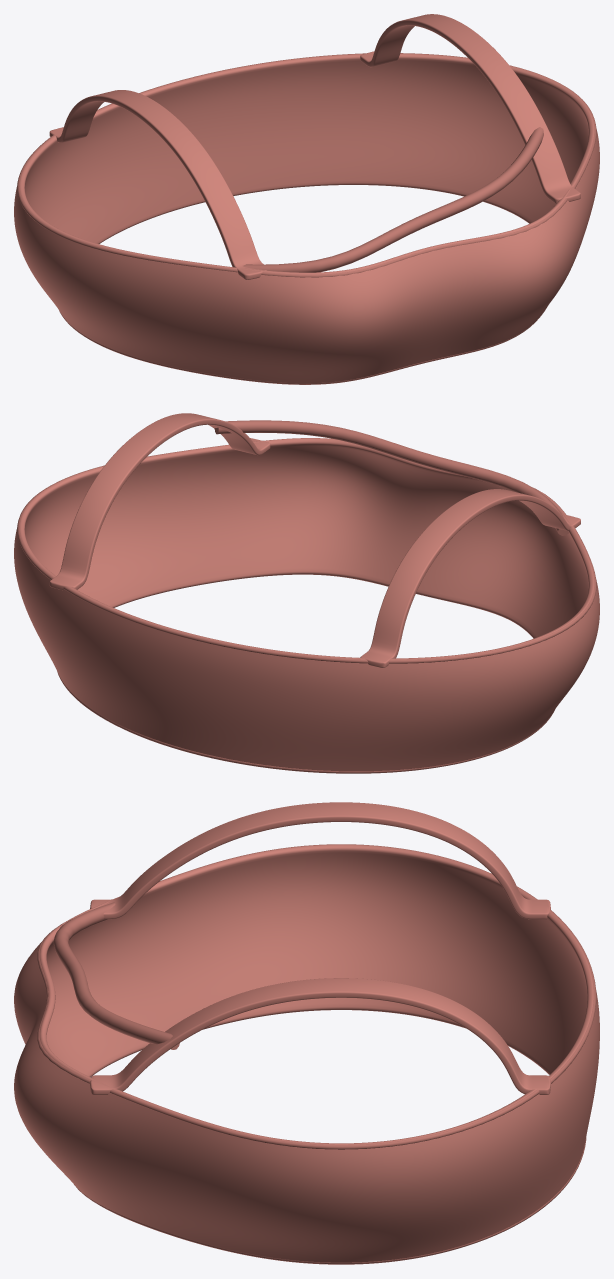
Rendered from Feminine-strappy-top.glb.
3 renders of one model, top to bottom at view 1: azimuth 30°, elevation 25°; view 2: azimuth 150°, elevation 25°; view 3: azimuth 270°, elevation 25°, orthographic. The views are drawn at different scales.
Visible parts, largest first — view 1: Clothing / strappy body, Clothing / strappy seated strap -1, Clothing / strappy seated strap 1, Crop / continuous diagonal strap export, strappy body stitched edge.001 export, strappy body stitched edge export; view 2: Clothing / strappy body, Clothing / strappy seated strap -1, Clothing / strappy seated strap 1, Crop / continuous diagonal strap export, strappy body stitched edge.001 export, strappy body stitched edge export; view 3: Clothing / strappy body, Clothing / strappy seated strap -1, Clothing / strappy seated strap 1, strappy body stitched edge.001 export, Crop / continuous diagonal strap export, strappy body stitched edge export.
Boxes of the visible parts, x1,y1,x2,y2 form: Clothing / strappy body: (14,53,599,384); Clothing / strappy seated strap -1: (49,90,266,279); Clothing / strappy seated strap 1: (360,14,580,203); Crop / continuous diagonal strap export: (243,127,543,272); strappy body stitched edge.001 export: (17,53,596,277); strappy body stitched edge export: (59,306,547,384); Clothing / strappy body: (14,438,599,771); Clothing / strappy seated strap -1: (360,489,580,667); Clothing / strappy seated strap 1: (49,413,270,590); Crop / continuous diagonal strap export: (214,420,568,535); strappy body stitched edge.001 export: (17,450,596,663); strappy body stitched edge export: (57,671,554,773); Clothing / strappy body: (14,844,599,1264); Clothing / strappy seated strap -1: (90,802,550,919); Clothing / strappy seated strap 1: (90,978,550,1094); strappy body stitched edge.001 export: (37,844,596,1149); Crop / continuous diagonal strap export: (53,902,179,1049); strappy body stitched edge export: (74,1137,586,1264).
Bounding box in the file's own units: 0.7201 × 0.2642 × 0.5833.
